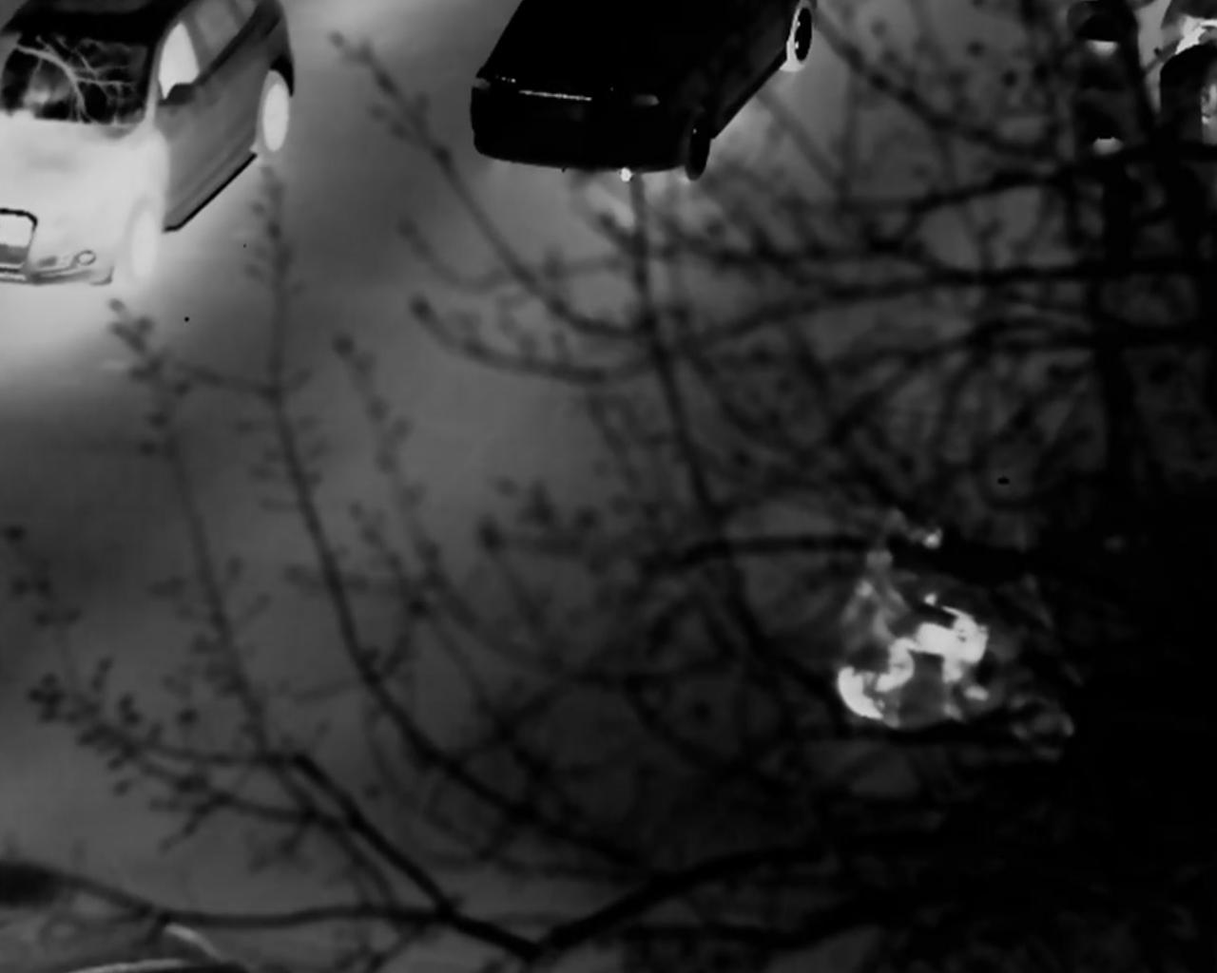person: (860, 515, 998, 705)
